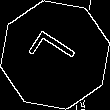L_SE: (25, 28, 85, 82)
